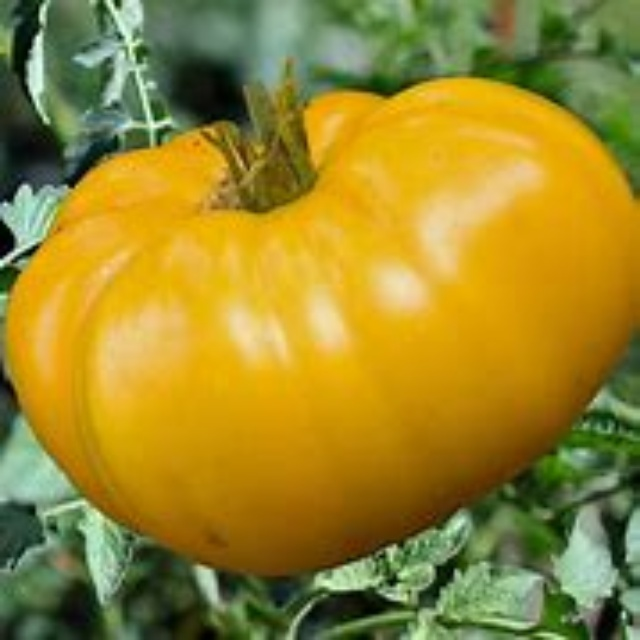tomato: (11, 81, 639, 578)
